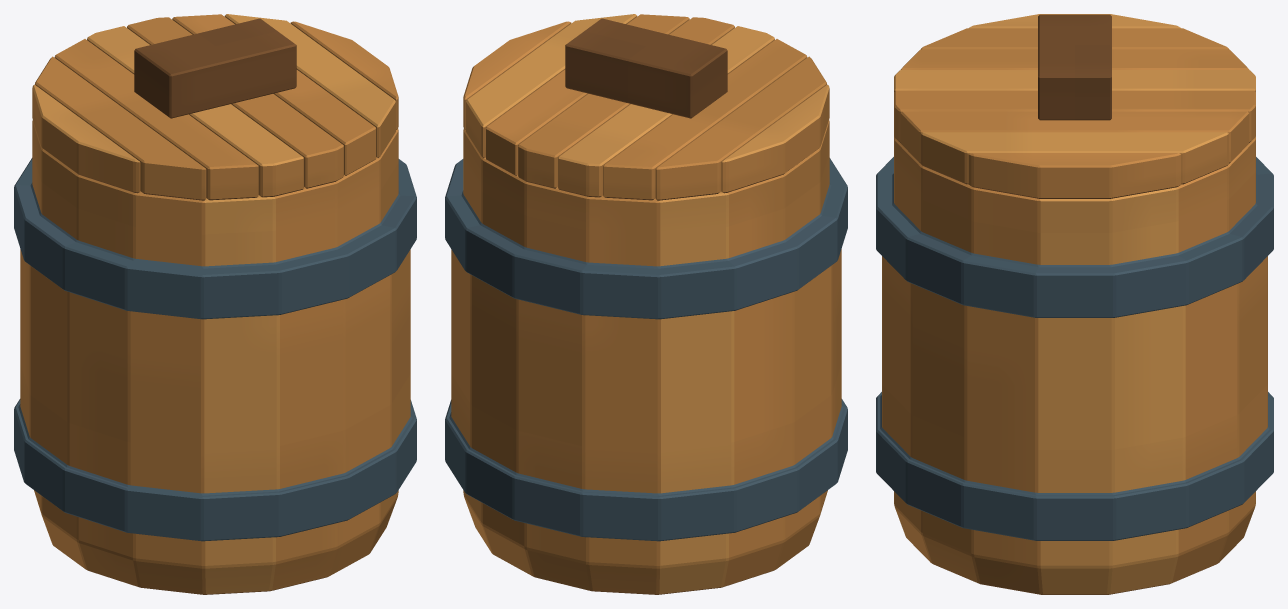
Rendered from SM_VMF_Prop_Barrel.fbx.
3 renders of one model, left to right at view 1: azimuth 30°, elevation 25°; view 2: azimuth 150°, elevation 25°; view 3: azimuth 270°, elevation 25°, orthographic.
Parts seen in each view (by area): view 1: SM_VMF_Prop_Barrel_Body, SM_VMF_Prop_Barrel_Lid; view 2: SM_VMF_Prop_Barrel_Body, SM_VMF_Prop_Barrel_Lid; view 3: SM_VMF_Prop_Barrel_Body, SM_VMF_Prop_Barrel_Lid.
Part boxes in pixels (x1,y1,x2,y2): SM_VMF_Prop_Barrel_Body: (14, 120, 416, 594); SM_VMF_Prop_Barrel_Lid: (32, 14, 398, 200); SM_VMF_Prop_Barrel_Body: (445, 120, 847, 594); SM_VMF_Prop_Barrel_Lid: (463, 14, 829, 200); SM_VMF_Prop_Barrel_Body: (876, 136, 1273, 594); SM_VMF_Prop_Barrel_Lid: (894, 14, 1255, 198).
Size of the model in its own units: 64.73 by 86 by 64.73.
1 material, 1 textured.
